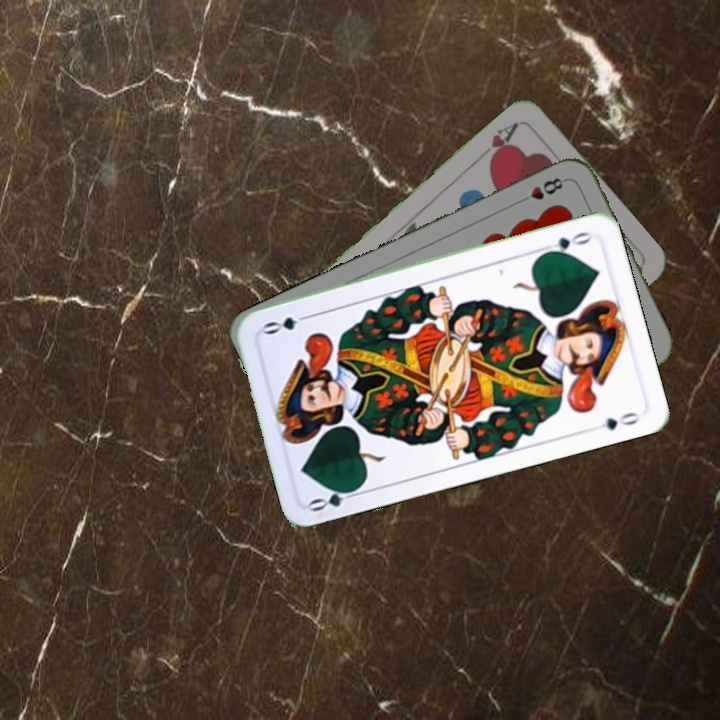GO: (305, 483, 364, 515), (538, 227, 594, 258)
H8: (514, 173, 569, 207)
HA: (474, 118, 521, 167)
